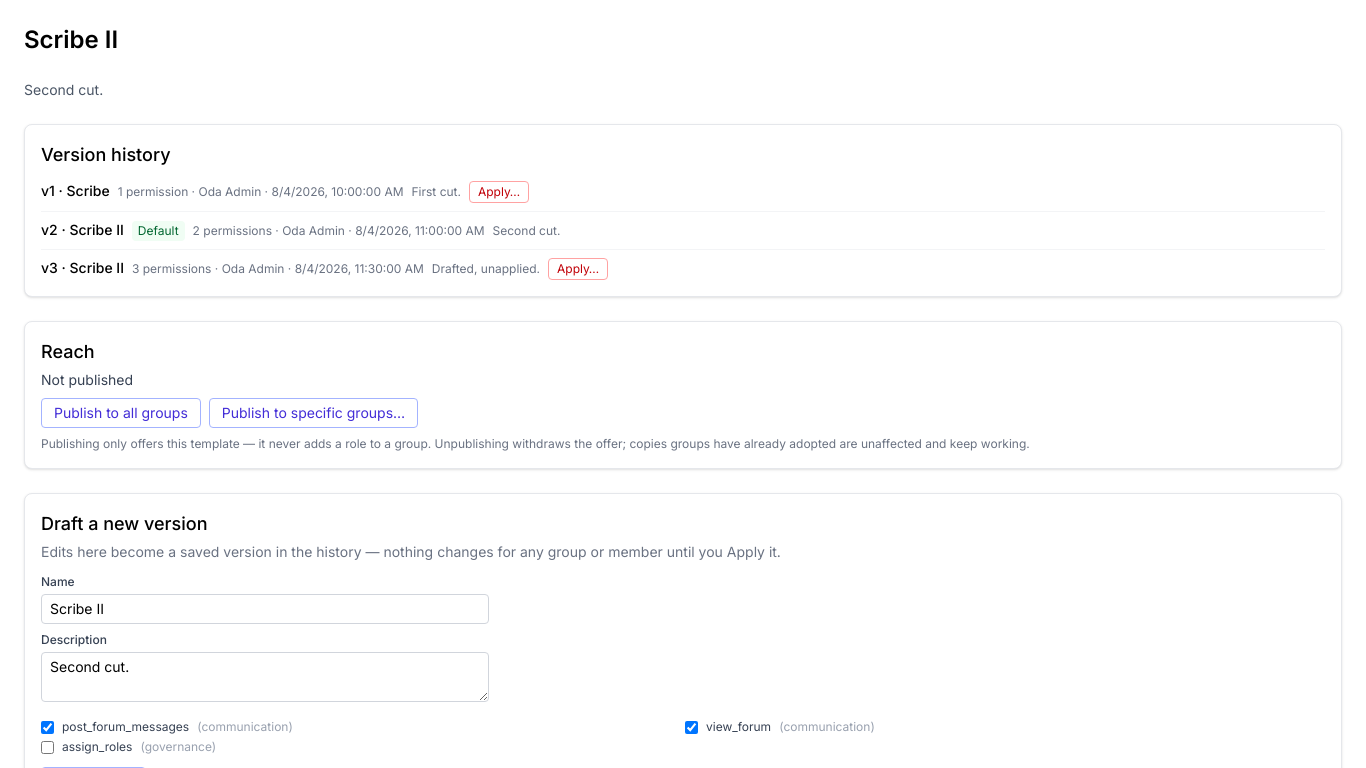
Test case: AdminRoleTemplateDetail (FEAT-H040 STORY-2/3/4) › STORY-3: rollback is the same door — an older version shows the reversed diff and a name change
Step 1. Click the button with test id "apply-version-1" → (499, 192), box [469,181,529,203]
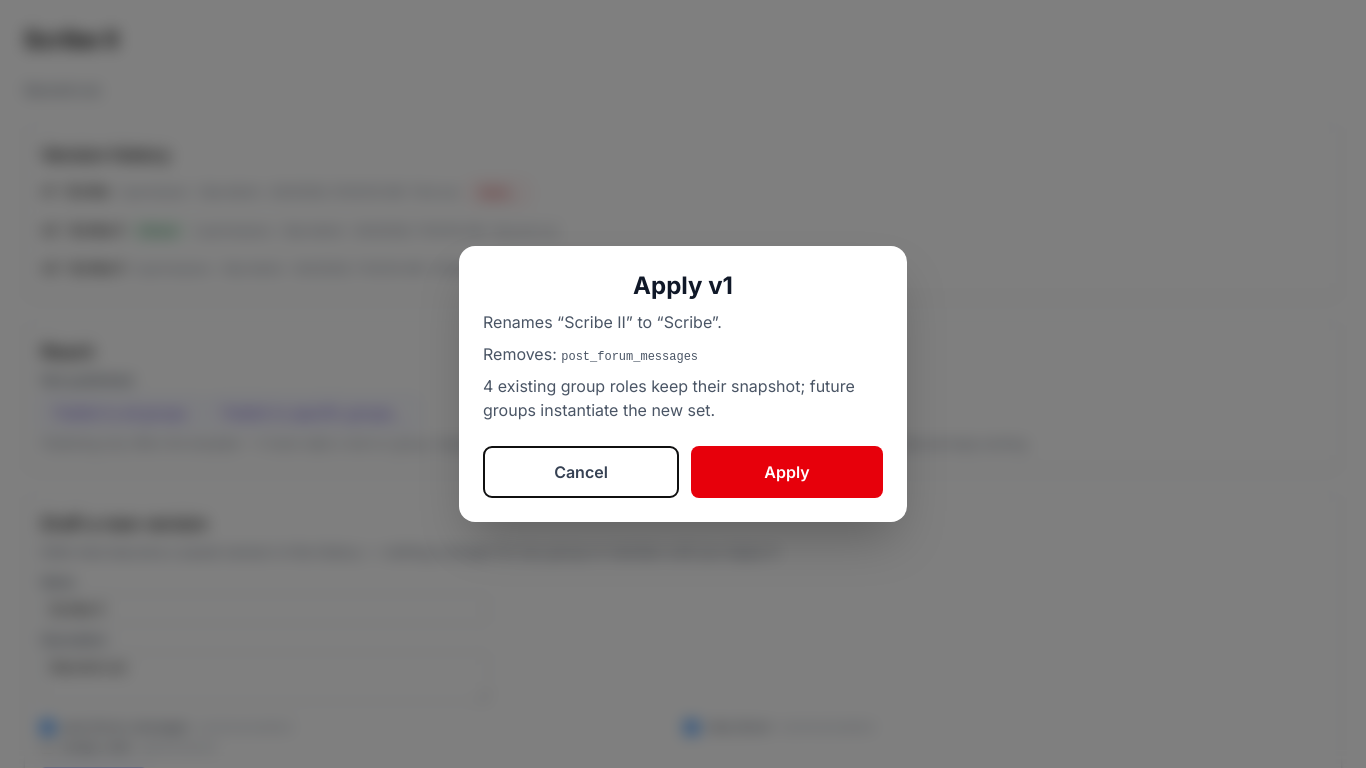
Expected: the element with test id "diff-removed" shows "post_forum_messages", [561,350,698,364]
Expected: the text with test id "diff-name-change" reads "Renames “Scribe II” to “Scribe”.", [483,312,722,332]
